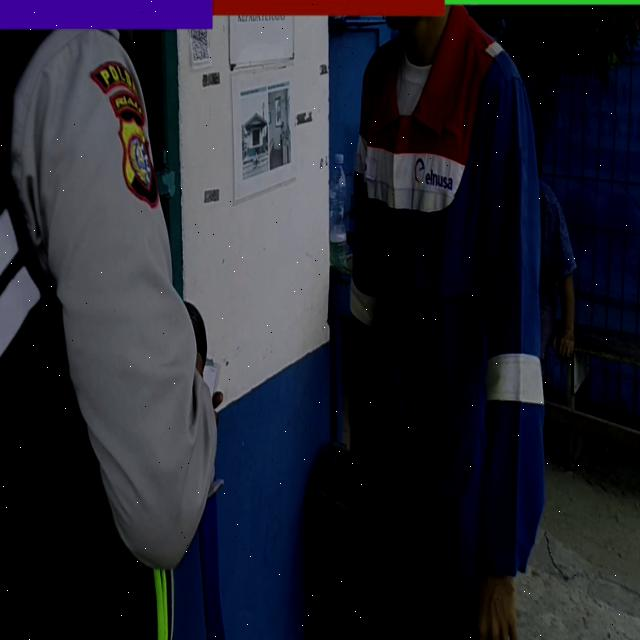No Glove: (479, 571, 518, 640)
No Overall Suit: (0, 27, 218, 640)
Overall Suit: (348, 16, 542, 640)
